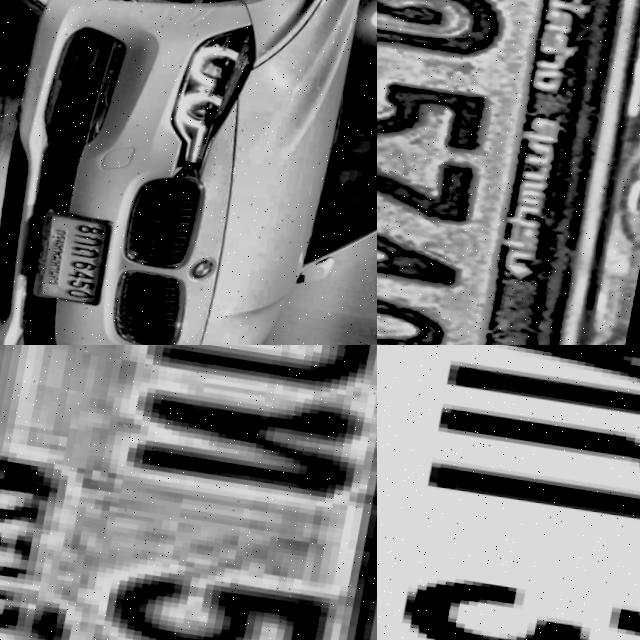license-plate: (0, 345, 377, 640), (377, 0, 639, 345), (377, 345, 640, 640), (41, 208, 128, 304)
